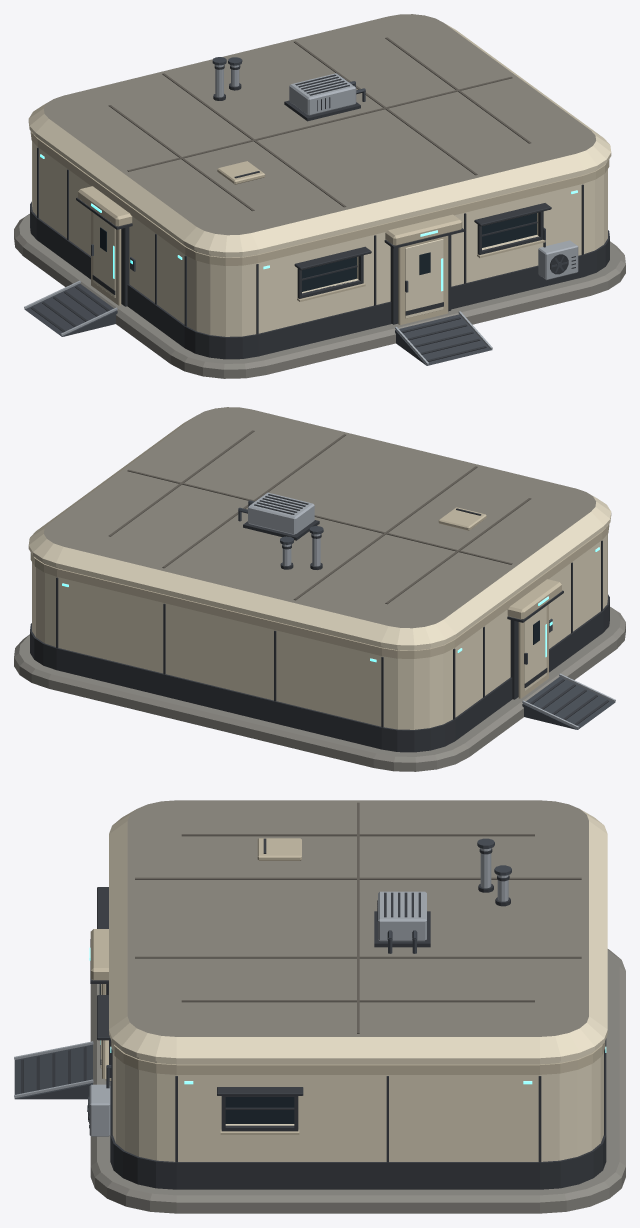
The model's file is barracks-v003.glb.
The picture shows the model from 3 angles, top to bottom: view 1: azimuth 30°, elevation 25°; view 2: azimuth 150°, elevation 25°; view 3: azimuth 270°, elevation 25°; orthographic projection. The views are drawn at different scales.
Visible parts, largest first — view 1: Building_Roof, Building_Shell, Wall_S, Wall_W, Wall_Corners, EntranceDoor_S, Entrance_S_Ramp, Entrance_W_Ramp, Entrance_S_Frame, EntranceDoor; view 2: Building_Roof, Wall_N, Building_Shell, Wall_W, Wall_Corners, Entrance_W_Ramp, EntranceDoor; view 3: Building_Roof, Wall_E, Building_Shell, Wall_Corners, Entrance_S_Ramp, Entrance_S_Frame.
Boxes of the visible parts, x1=… form: Building_Roof: x1=28, y1=14, x2=611, y2=255; Building_Shell: x1=14, y1=147, x2=625, y2=378; Wall_S: x1=257, y1=174, x2=583, y2=356; Wall_W: x1=36, y1=138, x2=186, y2=347; Wall_Corners: x1=30, y1=131, x2=609, y2=359; EntranceDoor_S: x1=398, y1=236, x2=448, y2=325; Entrance_S_Ramp: x1=395, y1=311, x2=492, y2=365; Entrance_W_Ramp: x1=24, y1=280, x2=117, y2=336; Entrance_S_Frame: x1=384, y1=214, x2=464, y2=324; EntranceDoor: x1=91, y1=211, x2=121, y2=305; Building_Roof: x1=28, y1=407, x2=611, y2=648; Wall_N: x1=56, y1=567, x2=382, y2=749; Building_Shell: x1=14, y1=540, x2=625, y2=771; Wall_W: x1=453, y1=531, x2=603, y2=740; Wall_Corners: x1=30, y1=524, x2=609, y2=752; Entrance_W_Ramp: x1=522, y1=673, x2=615, y2=729; EntranceDoor: x1=518, y1=604, x2=548, y2=698; Building_Roof: x1=109, y1=800, x2=607, y2=1062; Wall_E: x1=176, y1=1062, x2=539, y2=1189; Building_Shell: x1=87, y1=887, x2=625, y2=1213; Wall_Corners: x1=110, y1=1041, x2=606, y2=1189; Entrance_S_Ramp: x1=14, y1=1041, x2=93, y2=1099; Entrance_S_Frame: x1=89, y1=929, x2=108, y2=994.
Bounding box in the file's own units: 10.85 × 3.51 × 9.35.
Materials: 1 (1 with a texture image).
